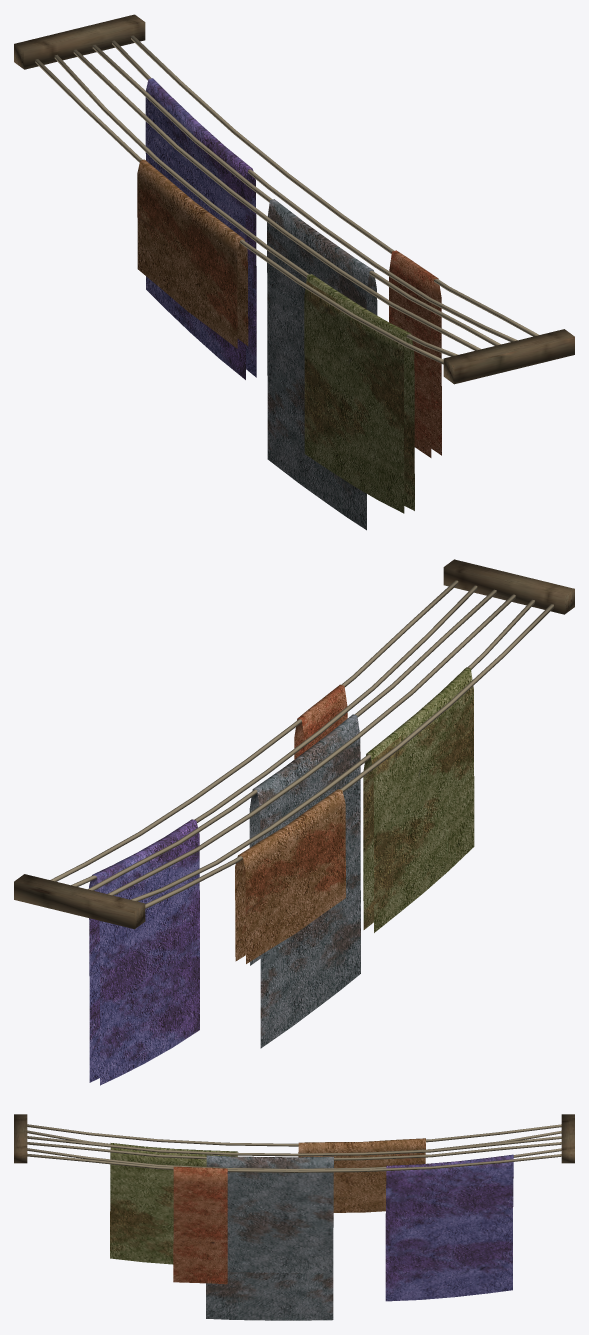
The model's file is Clothesline.fbx.
The picture shows the model from 3 angles, top to bottom: view 1: azimuth 30°, elevation 25°; view 2: azimuth 150°, elevation 25°; view 3: azimuth 270°, elevation 25°; orthographic projection. The views are drawn at different scales.
Parts seen in each view (by area): view 1: Clothesline.001, Clothesline; view 2: Clothesline.001, Clothesline; view 3: Clothesline.001, Clothesline.
Boxes of the visible parts, bbox=[...] form: Clothesline.001: bbox=[137, 78, 441, 530]; Clothesline: bbox=[14, 14, 574, 384]; Clothesline.001: bbox=[89, 667, 474, 1085]; Clothesline: bbox=[14, 559, 574, 929]; Clothesline.001: bbox=[110, 1138, 513, 1320]; Clothesline: bbox=[14, 1114, 574, 1172].
Size of the model in its own units: 63.09 by 146 by 398.
